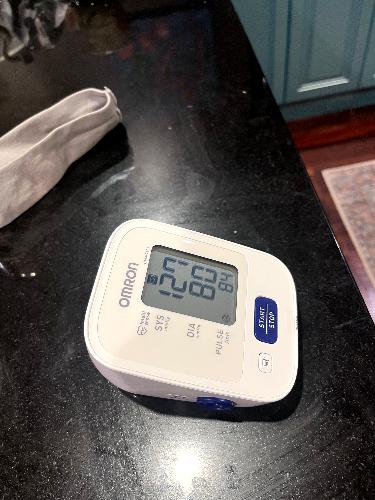bpm: (136, 239, 250, 332)
